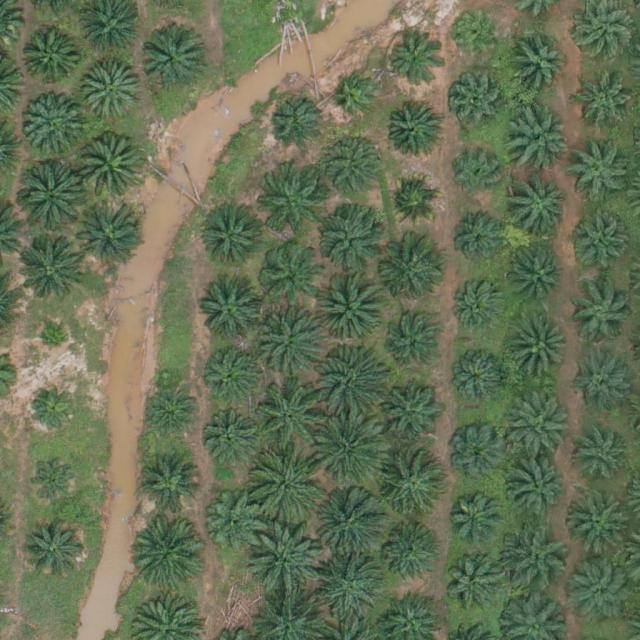Healthy: (134, 516, 205, 587), (317, 345, 388, 416), (254, 452, 325, 523), (562, 490, 632, 561), (502, 521, 572, 592), (315, 551, 385, 622), (249, 527, 320, 597), (506, 391, 576, 462), (379, 455, 449, 526), (320, 486, 390, 557), (317, 415, 388, 485), (317, 200, 388, 270), (253, 309, 323, 380), (257, 380, 327, 451), (75, 132, 145, 203), (15, 162, 85, 233), (13, 235, 83, 306), (562, 557, 632, 627), (377, 237, 447, 307), (317, 272, 387, 342), (73, 200, 143, 270), (22, 520, 85, 583), (567, 144, 630, 207), (570, 359, 633, 422), (509, 173, 572, 236), (447, 347, 510, 410), (379, 386, 442, 449), (322, 132, 385, 195), (255, 173, 318, 236), (259, 243, 322, 306), (200, 339, 263, 402), (200, 282, 263, 345), (204, 203, 267, 266), (139, 452, 202, 515), (22, 94, 85, 157), (569, 213, 631, 276), (570, 282, 633, 344), (572, 428, 634, 491), (510, 109, 573, 171), (511, 319, 573, 382), (507, 457, 569, 520), (447, 423, 509, 486), (202, 403, 265, 465), (140, 31, 202, 94), (82, 61, 144, 124), (18, 27, 80, 90), (509, 36, 571, 98), (205, 491, 267, 553), (446, 556, 501, 611), (381, 527, 436, 582), (581, 80, 636, 135), (511, 246, 566, 301), (448, 491, 503, 546), (449, 9, 504, 64), (451, 146, 506, 201), (452, 216, 507, 271), (452, 281, 507, 336), (388, 36, 443, 91), (28, 454, 83, 509), (384, 313, 439, 368), (269, 96, 324, 151), (143, 382, 198, 437), (450, 73, 504, 128), (386, 101, 440, 156), (27, 380, 81, 435), (386, 175, 440, 230)
Small: (334, 74, 381, 122), (39, 327, 70, 358)
